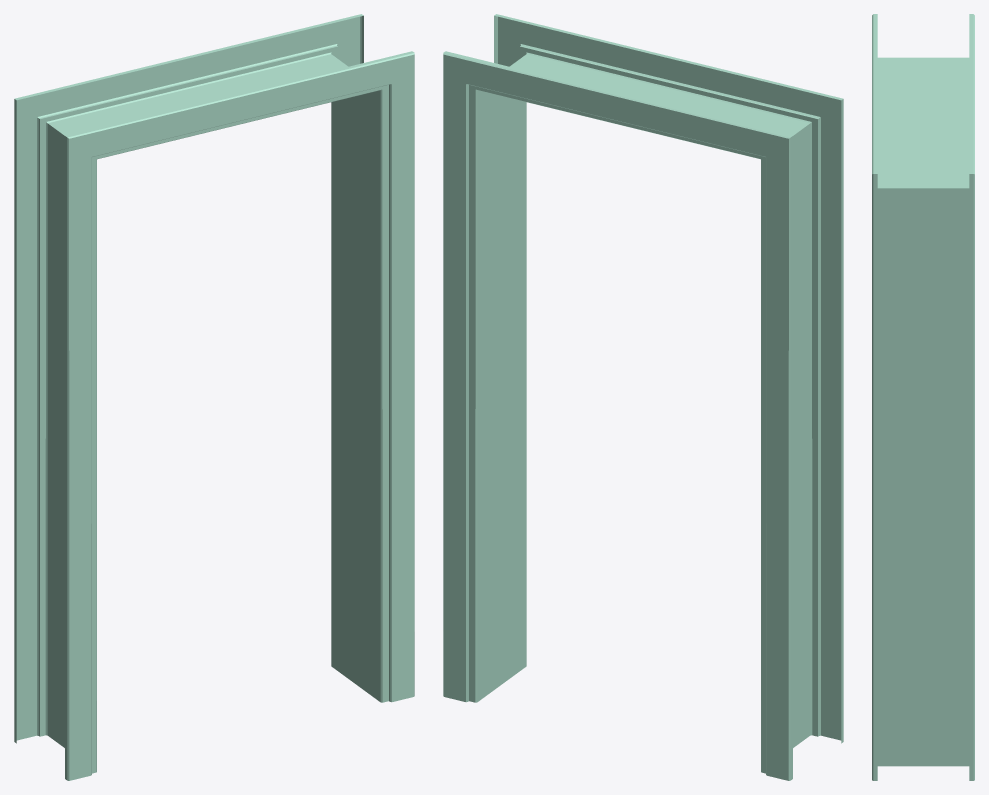
Rendered from metal_door_112_16_frame_reference.fbx.
The picture shows the model from 3 angles, left to right: view 1: azimuth 30°, elevation 25°; view 2: azimuth 150°, elevation 25°; view 3: azimuth 270°, elevation 25°; orthographic projection. The views are drawn at different scales.
Parts seen in each view (by area): view 1: metal_door_112_16_frame_reference; view 2: metal_door_112_16_frame_reference; view 3: metal_door_112_16_frame_reference.
Part boxes in pixels (<box>): metal_door_112_16_frame_reference: <box>14,14,414,780</box>; metal_door_112_16_frame_reference: <box>443,14,843,780</box>; metal_door_112_16_frame_reference: <box>872,14,974,780</box>.
Bounding box in the file's own units: 6619 × 11714 × 1800.
